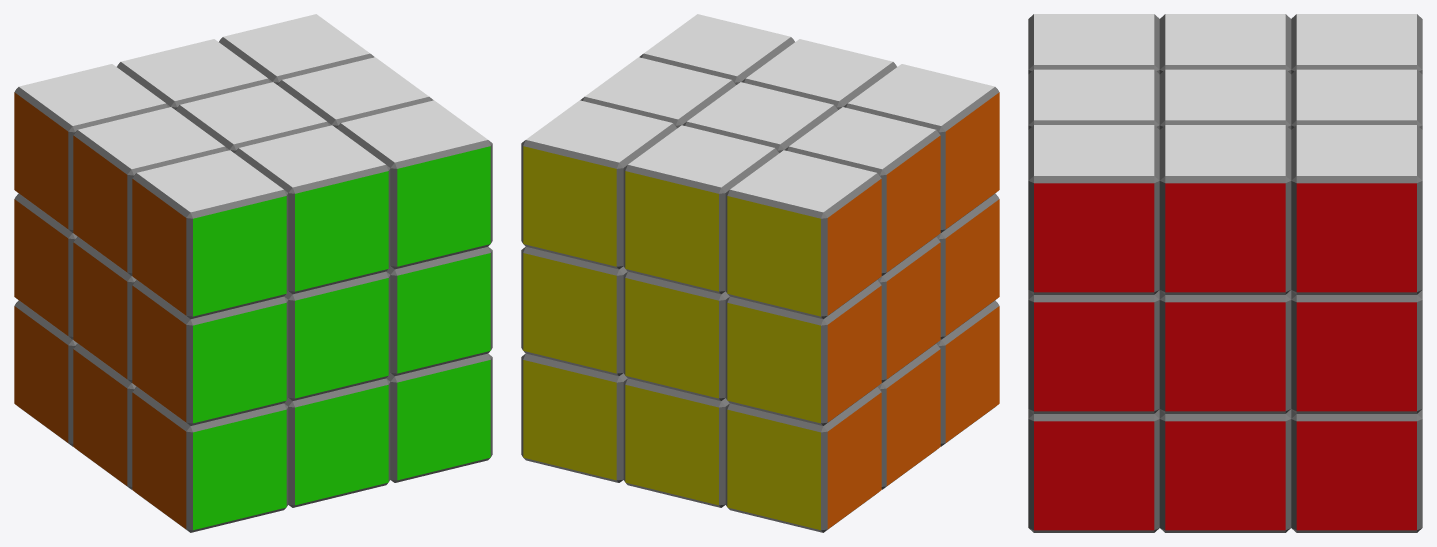
The model's file is Rubik.fbx.
3 views of the same model, side by side, from view 1: azimuth 30°, elevation 25°; view 2: azimuth 150°, elevation 25°; view 3: azimuth 270°, elevation 25° (orthographic). The views are drawn at different scales.
Visible parts, largest first — view 1: Cube.002, Cube, Cube.001, Cube.005, Cube.008, Cube.011, Cube.014, Cube.007, Cube.003, Cube.004, Cube.006, Cube.012 (+7 smaller); view 2: Cube.014, Cube.012, Cube.013, Cube.020, Cube.026, Cube.011, Cube.002, Cube.025, Cube.018, Cube.019, Cube.024, Cube (+7 smaller); view 3: Cube.023, Cube.008, Cube.026, Cube.021, Cube.022, Cube.006, Cube.024, Cube.007, Cube.025, Cube.011, Cube.017, Cube.005 (+3 smaller).
Part boxes in pixels (x1,y1,x2,y2): Cube.002: (132, 150, 288, 319); Cube: (132, 386, 288, 532); Cube.001: (132, 280, 288, 425); Cube.005: (234, 125, 390, 294); Cube.008: (336, 100, 492, 269); Cube.011: (73, 107, 228, 275); Cube.014: (14, 64, 170, 232); Cube.007: (386, 246, 492, 375); Cube.003: (284, 378, 390, 507); Cube.004: (284, 271, 390, 400); Cube.006: (386, 353, 492, 482); Cube.012: (14, 300, 77, 446); Cube.014: (725, 150, 881, 319); Cube.012: (725, 386, 881, 532); Cube.013: (725, 280, 881, 425); Cube.020: (623, 125, 779, 294); Cube.026: (521, 100, 677, 269); Cube.011: (785, 107, 940, 275); Cube.002: (843, 64, 999, 232); Cube.025: (521, 246, 627, 375); Cube.018: (623, 378, 729, 507); Cube.019: (623, 271, 729, 400); Cube.024: (521, 353, 627, 482); Cube: (936, 300, 999, 446); Cube.023: (1159, 125, 1291, 294); Cube.008: (1028, 125, 1159, 294); Cube.026: (1291, 125, 1422, 294); Cube.021: (1159, 409, 1291, 532); Cube.022: (1159, 290, 1291, 413); Cube.006: (1028, 409, 1159, 532); Cube.024: (1291, 409, 1422, 532); Cube.007: (1028, 290, 1159, 413); Cube.025: (1291, 290, 1422, 413); Cube.011: (1159, 14, 1291, 74); Cube.017: (1159, 69, 1291, 129); Cube.005: (1028, 69, 1159, 129).
Size of the model in its own units: 300 by 300 by 300.
